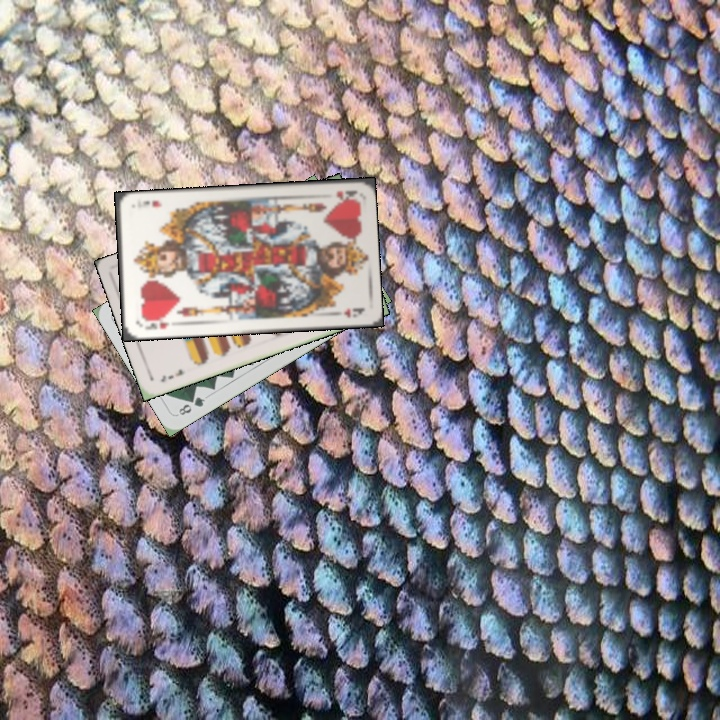E7: (157, 365, 186, 385)
G8: (174, 393, 208, 418)
HK: (141, 317, 172, 332), (333, 186, 359, 202)
